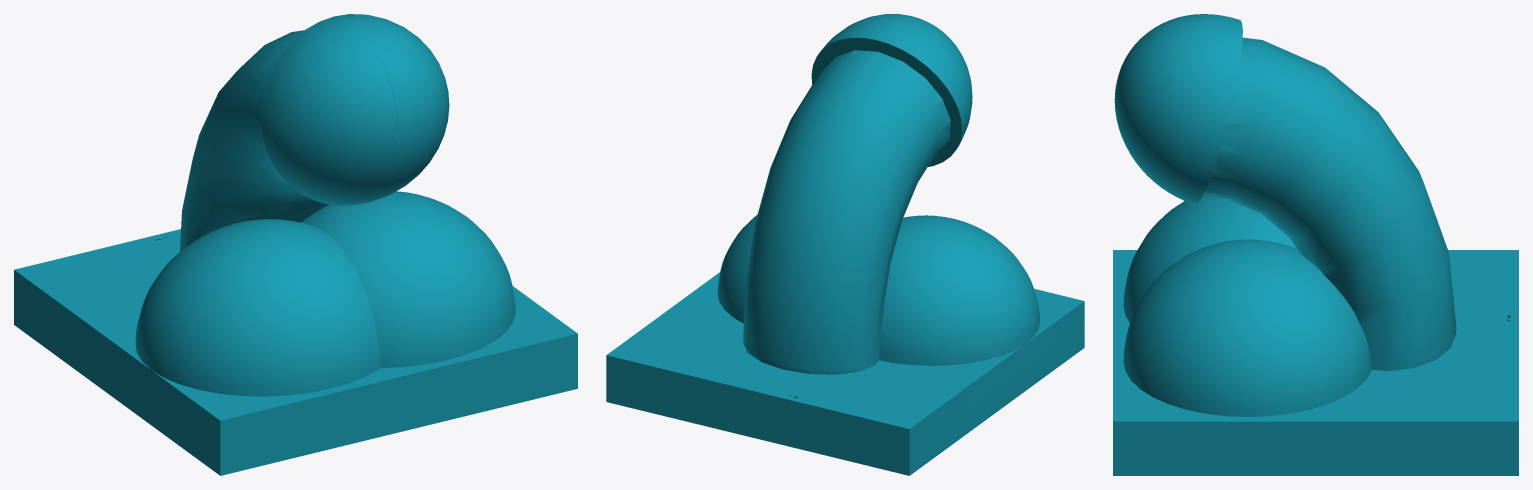
The model's file is dick_statue.obj.
3 renders of one model, left to right at view 1: azimuth 30°, elevation 25°; view 2: azimuth 150°, elevation 25°; view 3: azimuth 270°, elevation 25°, orthographic. The views are drawn at different scales.
Parts seen in each view (by area): view 1: STL; view 2: STL; view 3: STL.
Boxes of the visible parts, <box> form: STL: <box>14,14,577,475</box>; STL: <box>606,14,1084,475</box>; STL: <box>1113,14,1518,475</box>.
Size of the model in its own units: 11.25 by 11.25 by 11.25.
